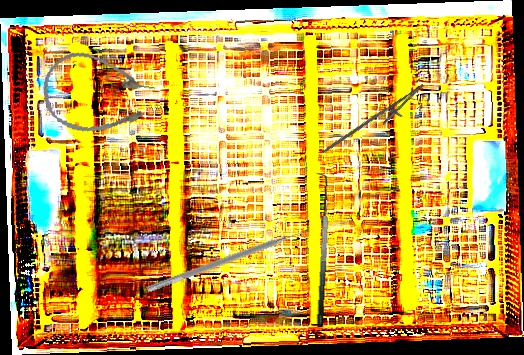Cannula: (36, 46, 161, 144)
Needle Holder: (321, 72, 431, 172)
Spatula Surgical: (146, 224, 312, 301), (303, 172, 335, 328)
